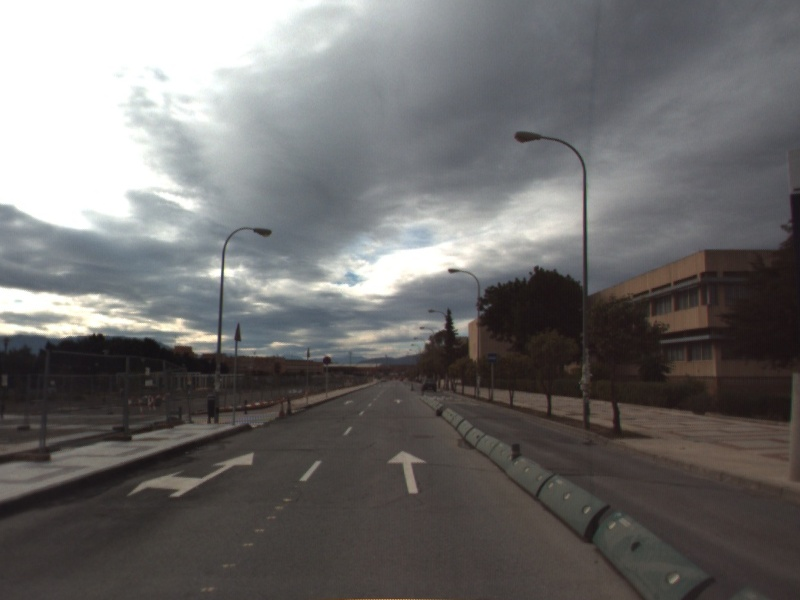STRAIGHT: (385, 448, 429, 496)
STRAIGHT_LEFT: (124, 450, 256, 499)
